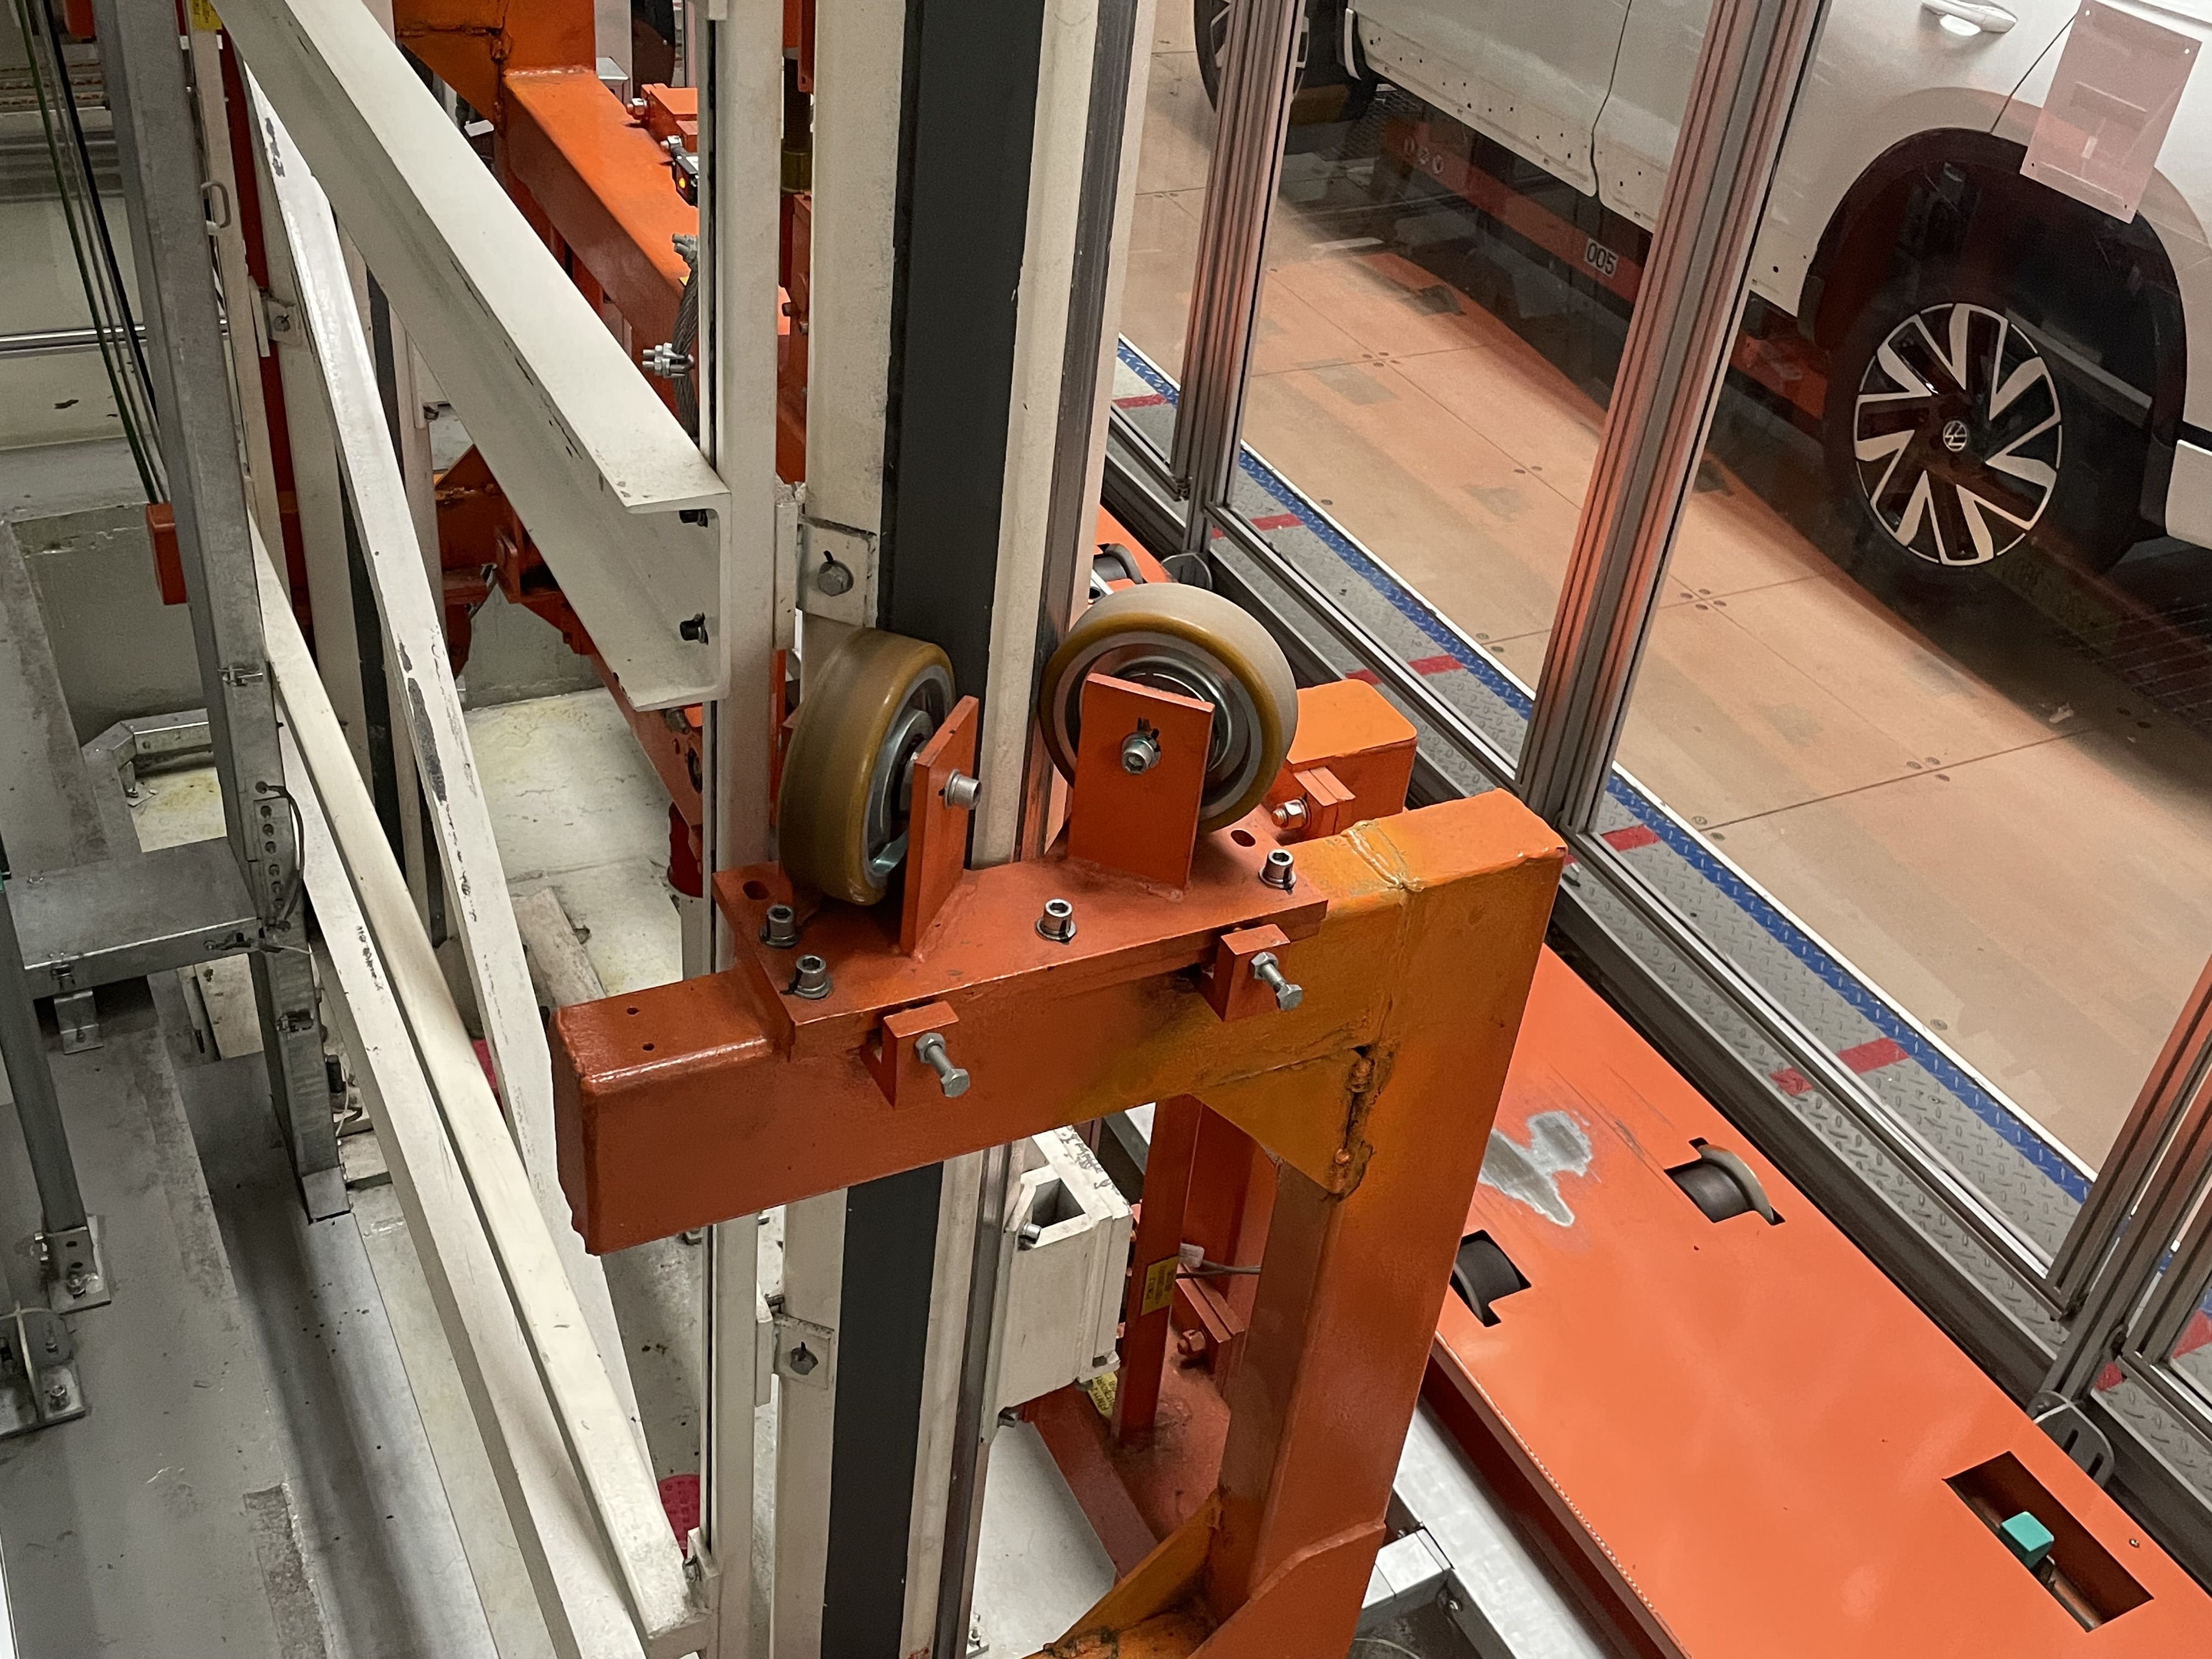good_wheel: (1045, 540, 1318, 835), (766, 591, 986, 915)
